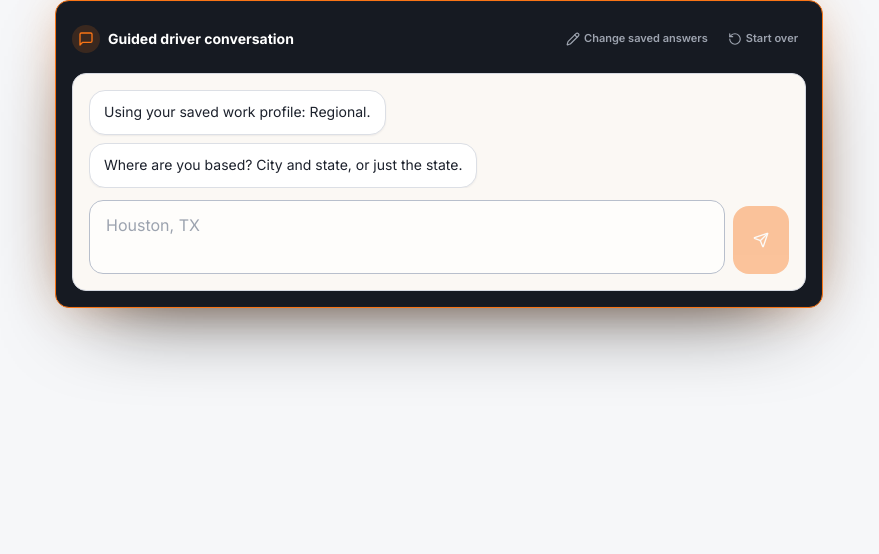
Test case: HP-4B profile-aware conversation › precedence: explicit current-session answer beats the profile seed
Click the button with test id "home-conversation-change-saved": (637, 39) [558,17,716,61]
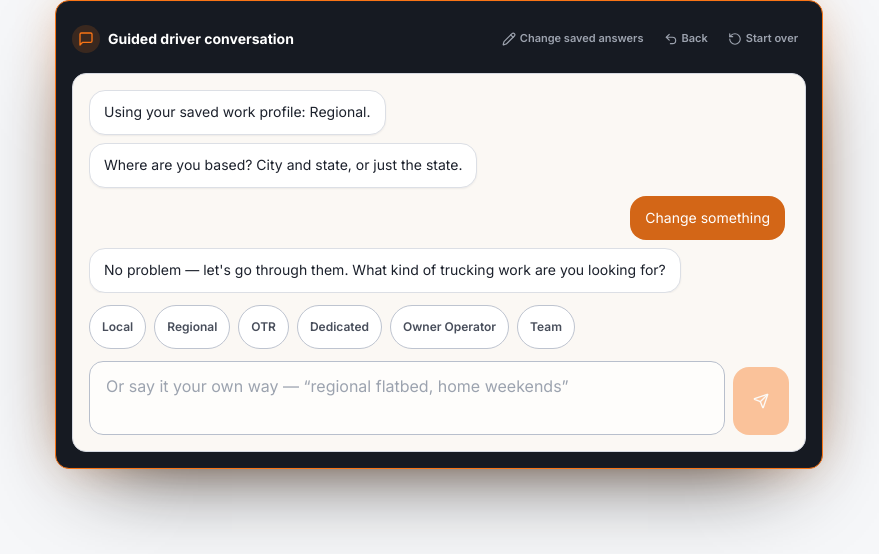
Click the button with test id "home-conversation-chip-dedicated": (340, 327) [297,305,382,349]
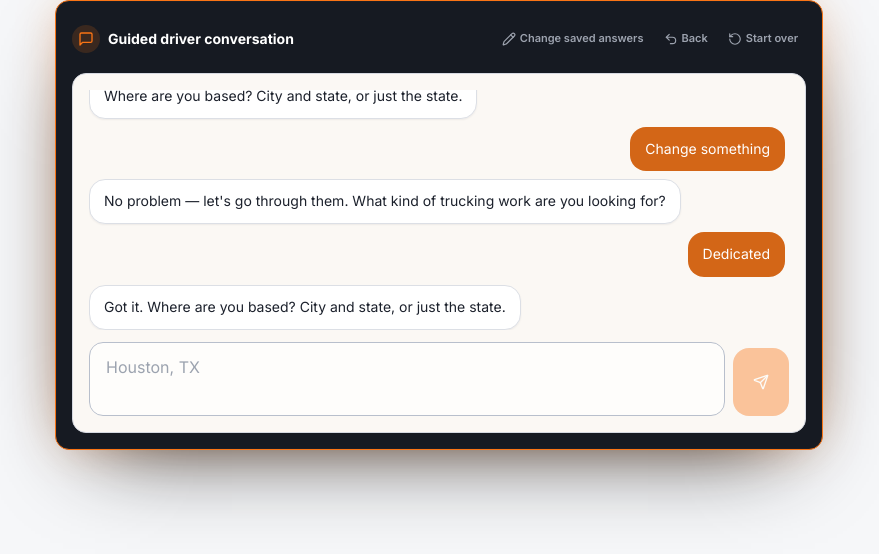
Expected: the element with test id "home-conversation-transcript" shows "Dedicated", [703,245,770,262]
